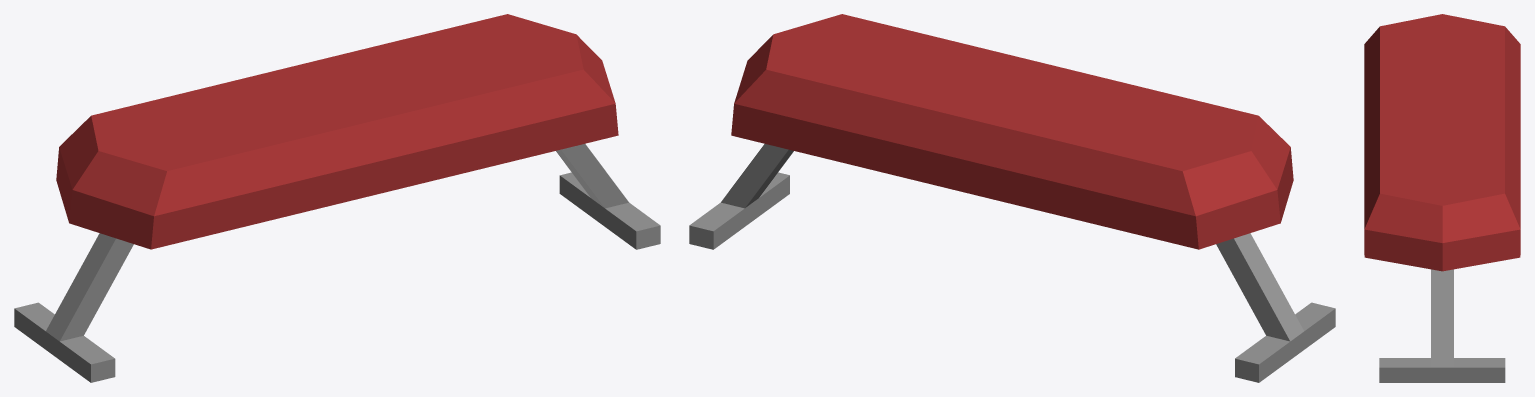
The model's file is BenchPressBench.fbx.
3 views of the same model, side by side, from view 1: azimuth 30°, elevation 25°; view 2: azimuth 150°, elevation 25°; view 3: azimuth 270°, elevation 25° (orthographic). The views are drawn at different scales.
Parts seen in each view (by area): view 1: Cube.004; view 2: Cube.004; view 3: Cube.004.
Part boxes in pixels (box(x1,y1,x2,y2)): Cube.004: box(14, 14, 660, 382); Cube.004: box(689, 14, 1335, 382); Cube.004: box(1364, 14, 1520, 382).
Size of the model in its own units: 693 by 224 by 200.
